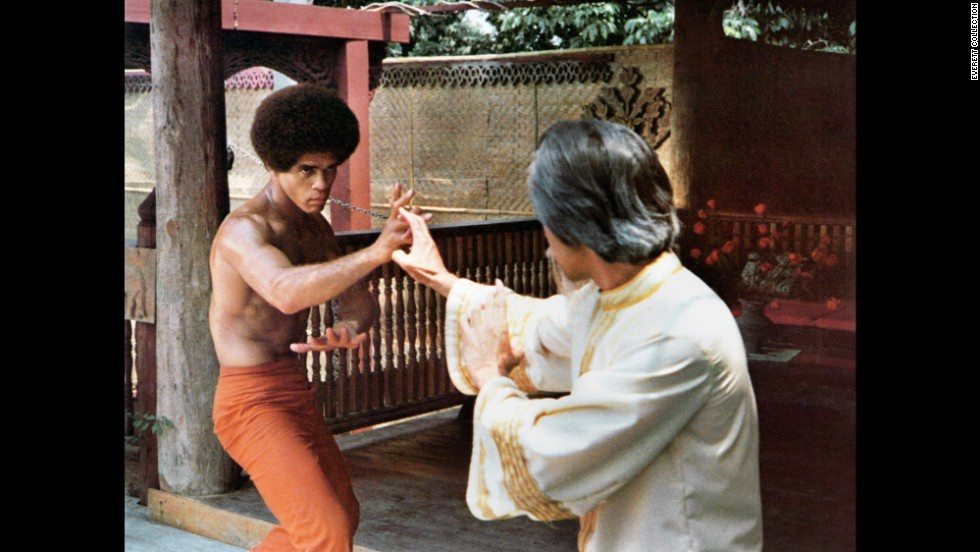bad: (291, 153, 343, 205)
